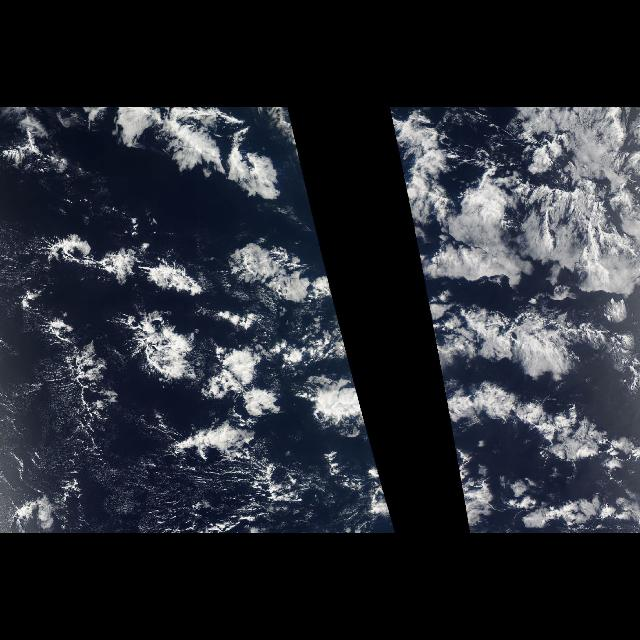Fish: (432, 278, 638, 488)
Flower: (0, 109, 394, 522), (388, 109, 638, 522)
